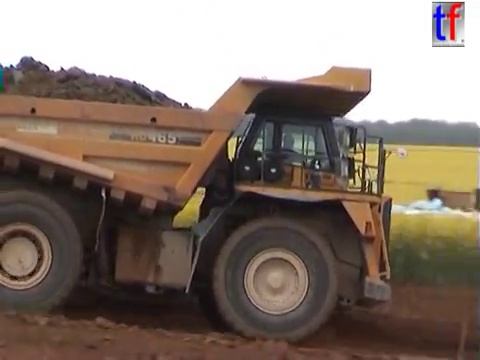truck: (1, 62, 410, 347), (426, 185, 480, 223)
